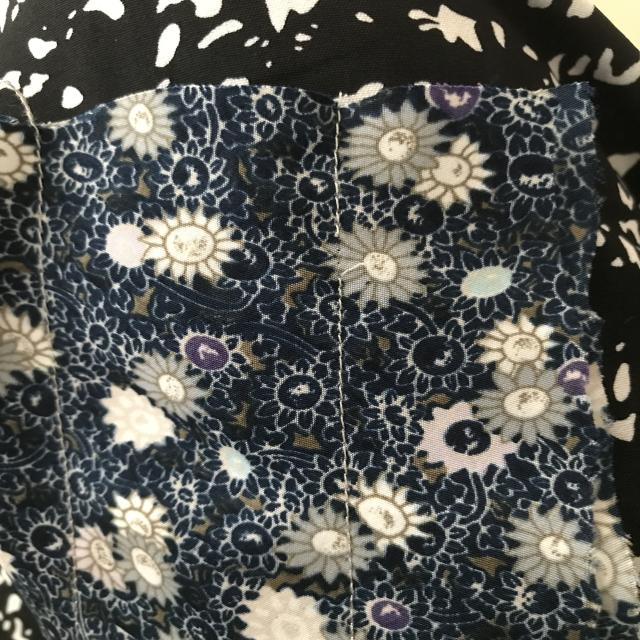broken: (320, 211, 374, 310)
